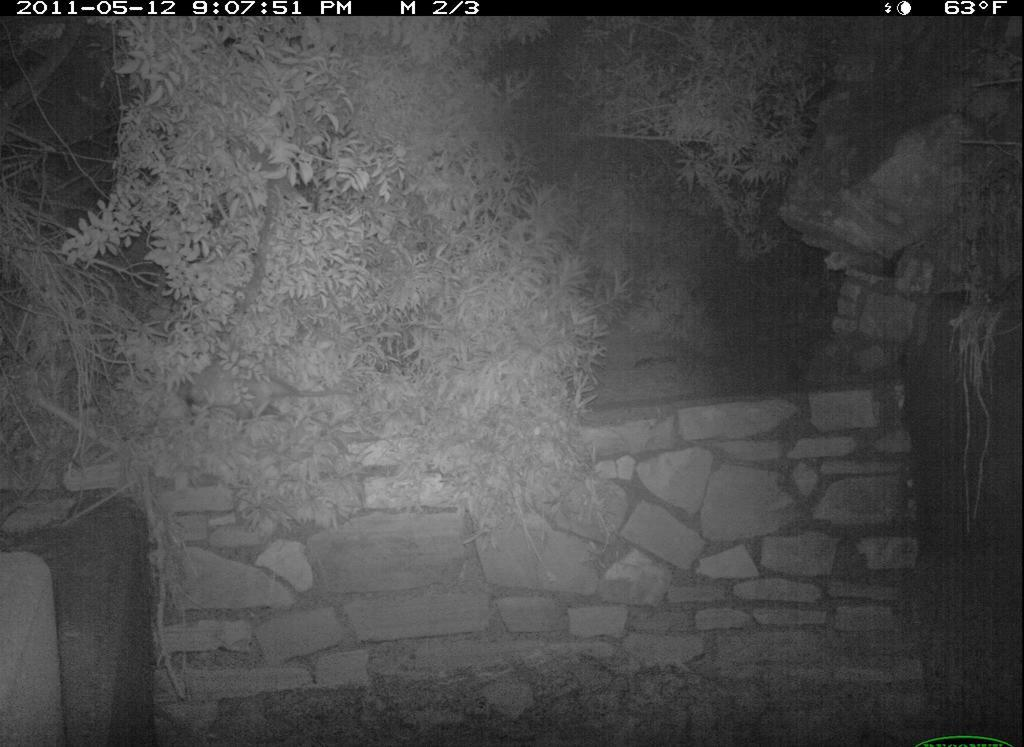opossum: (177, 351, 349, 424)
